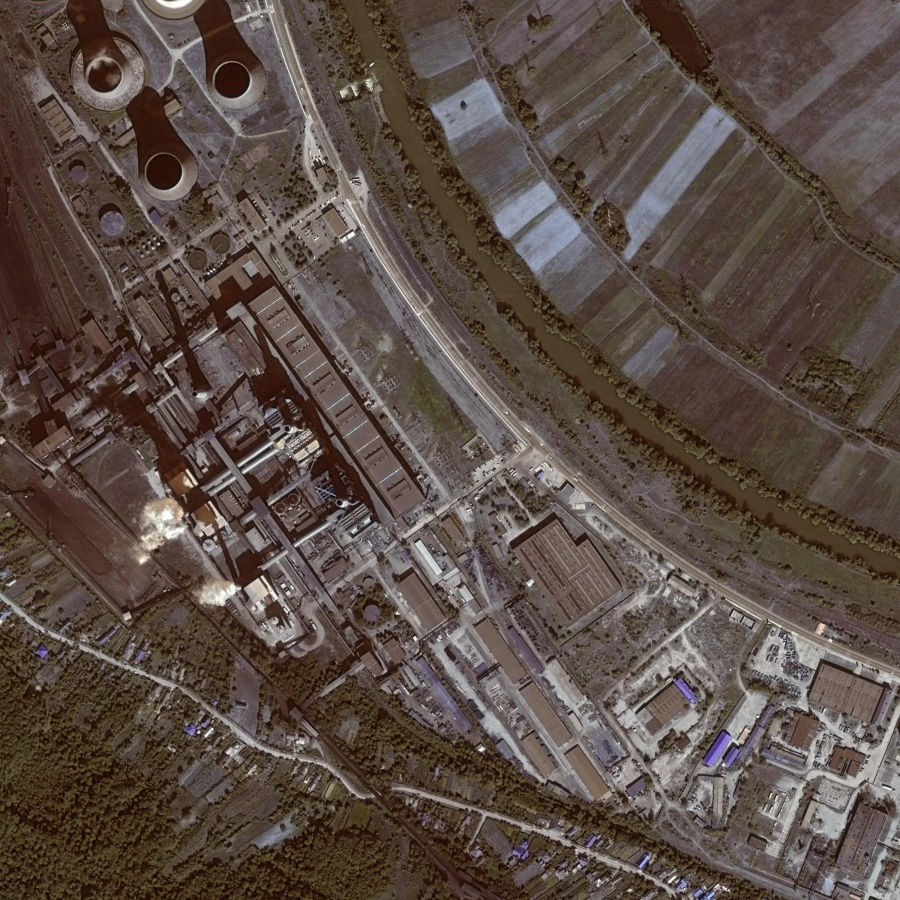PowerPlant: (24, 406, 239, 635)
